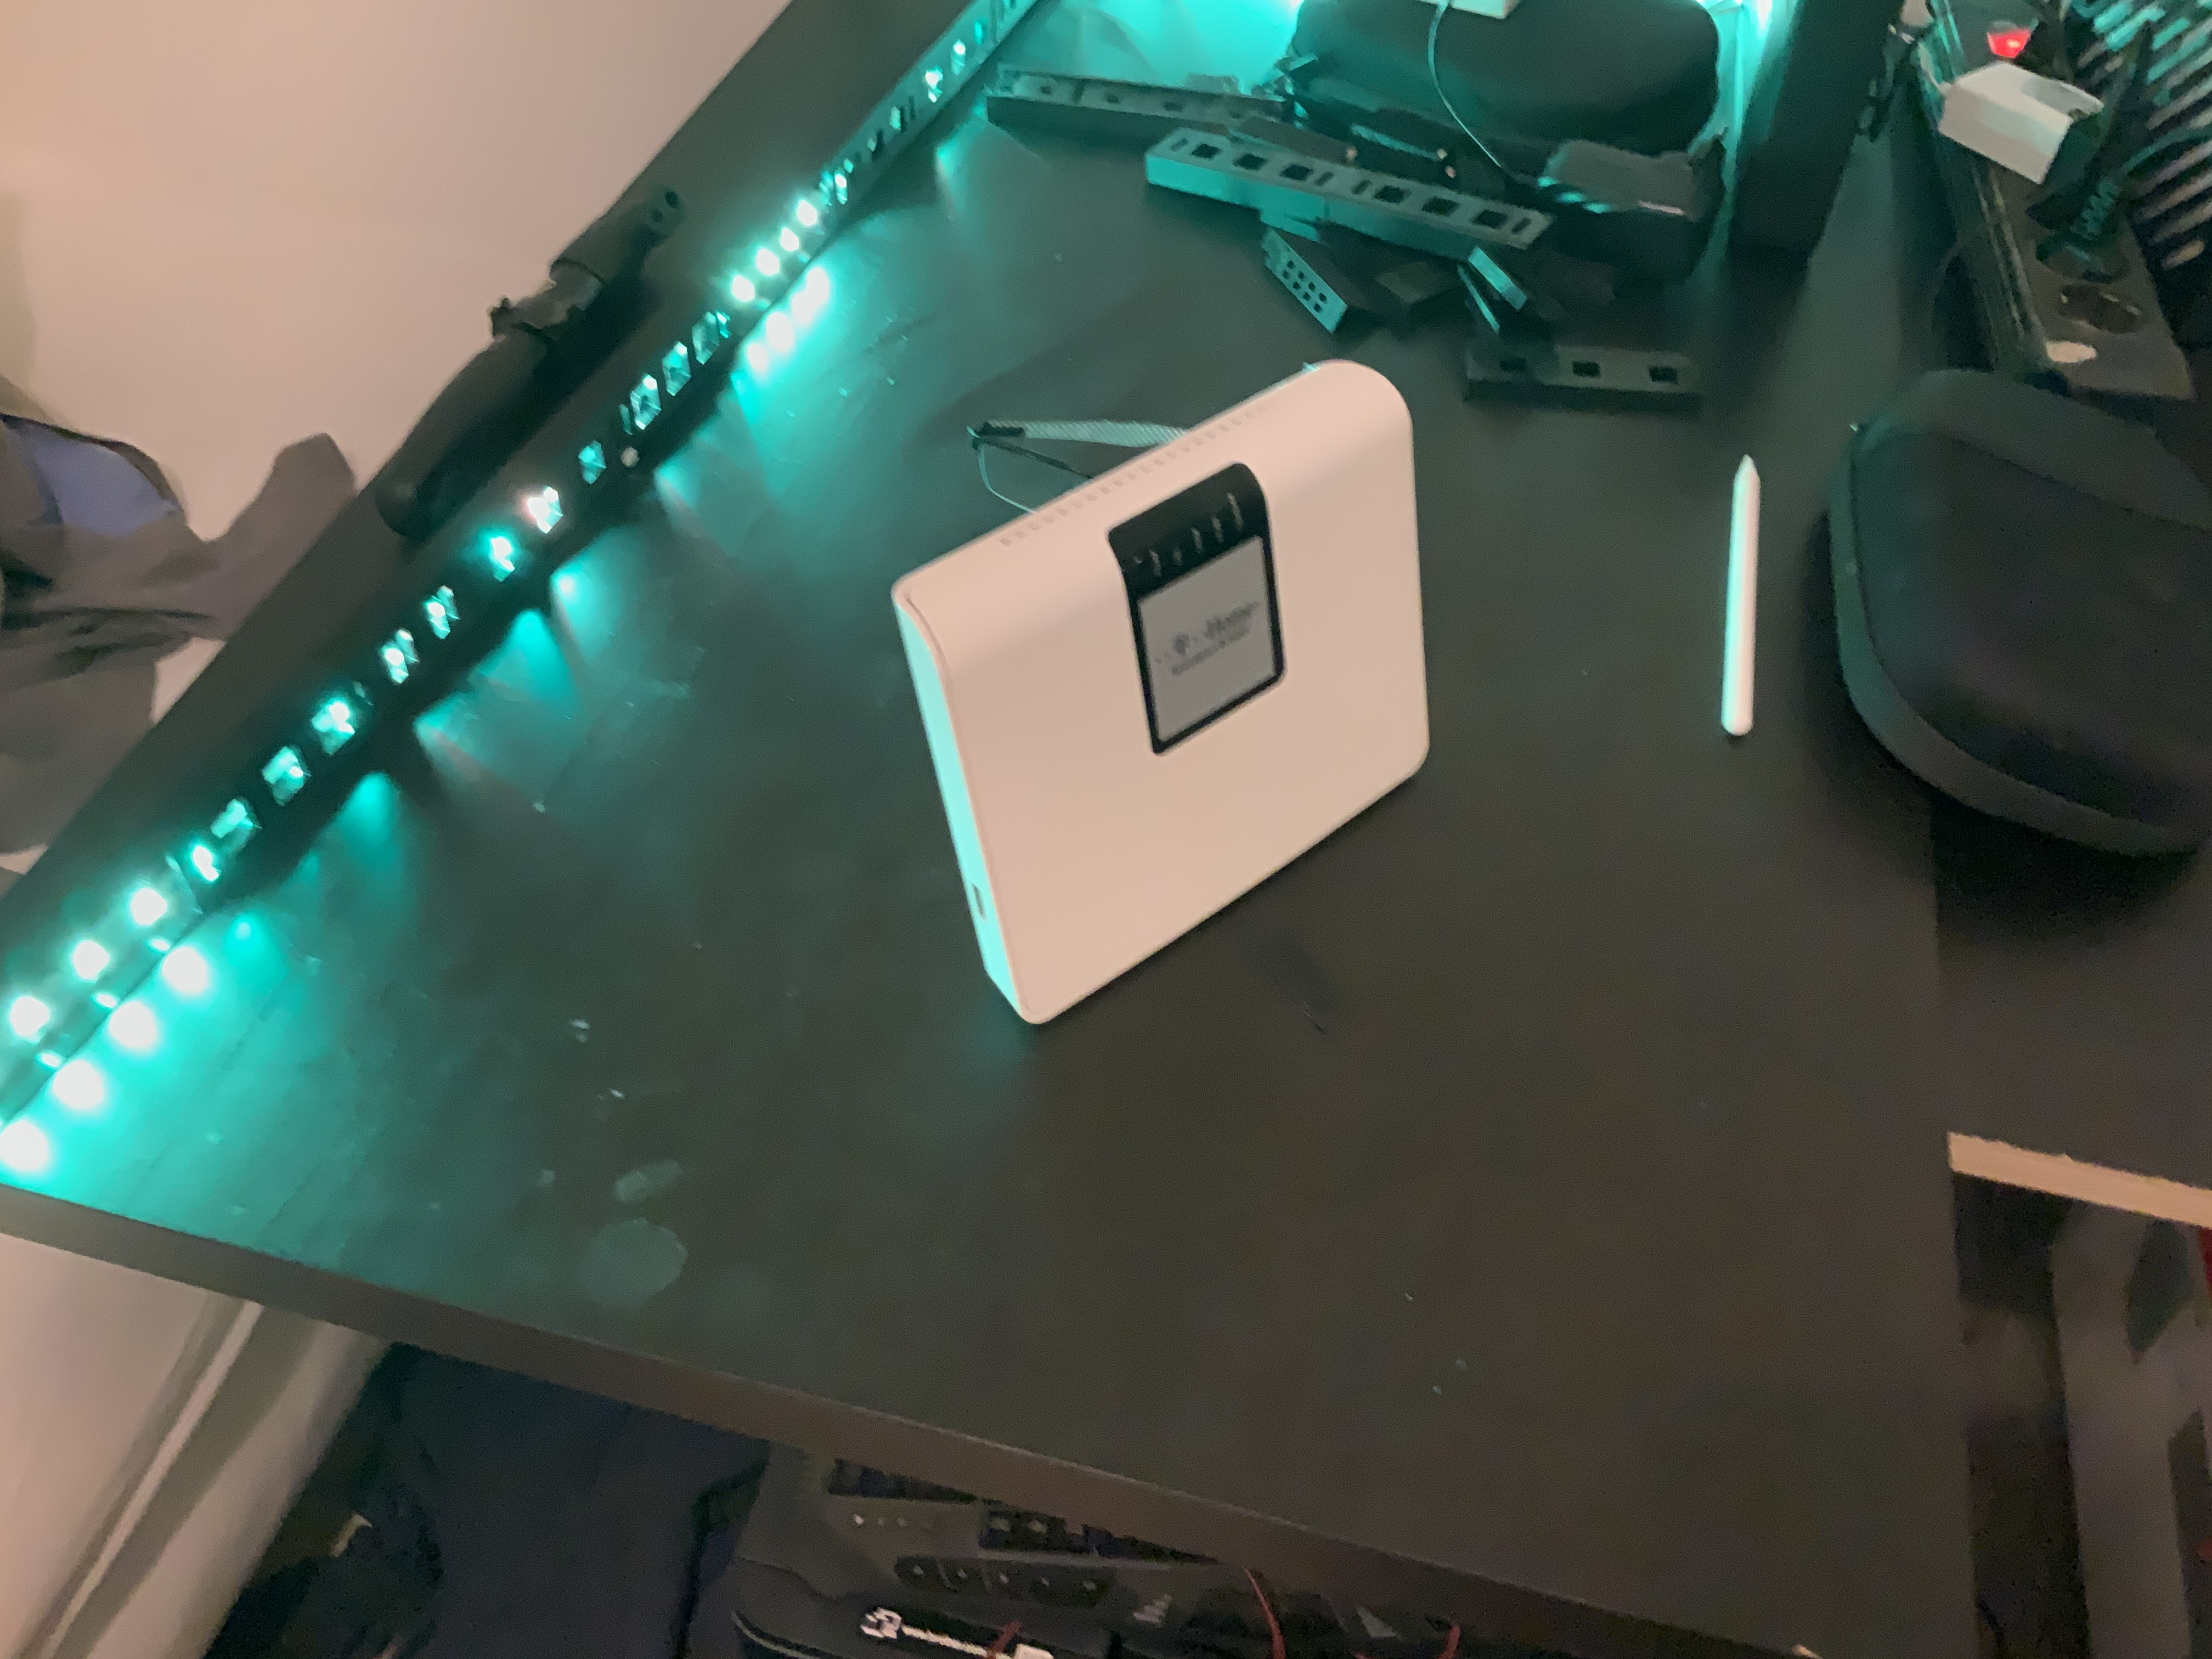Router2: (885, 343, 1447, 1039)
